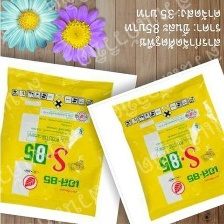insecticide: (83, 53, 223, 224), (0, 54, 140, 224)
